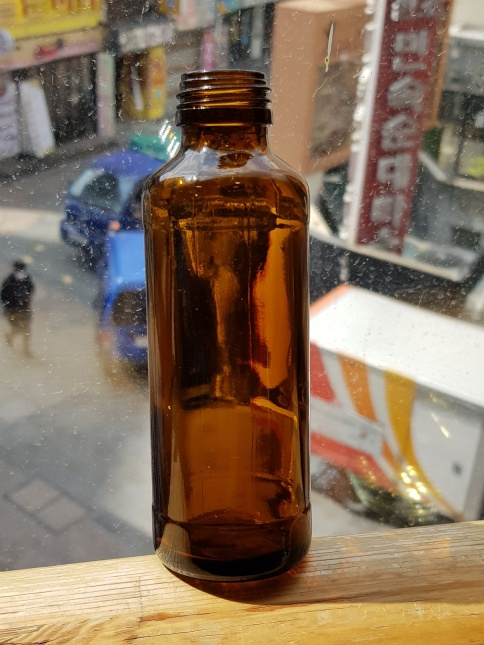Glass: (139, 64, 318, 598)
